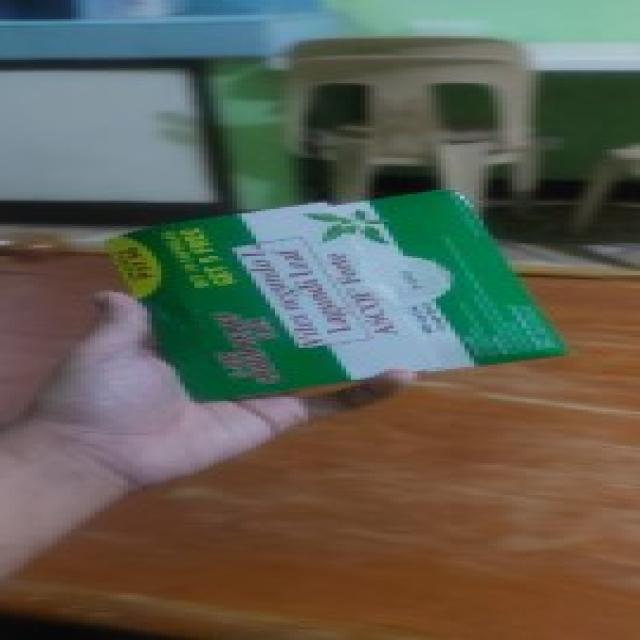Cacat: (104, 188, 569, 402)
